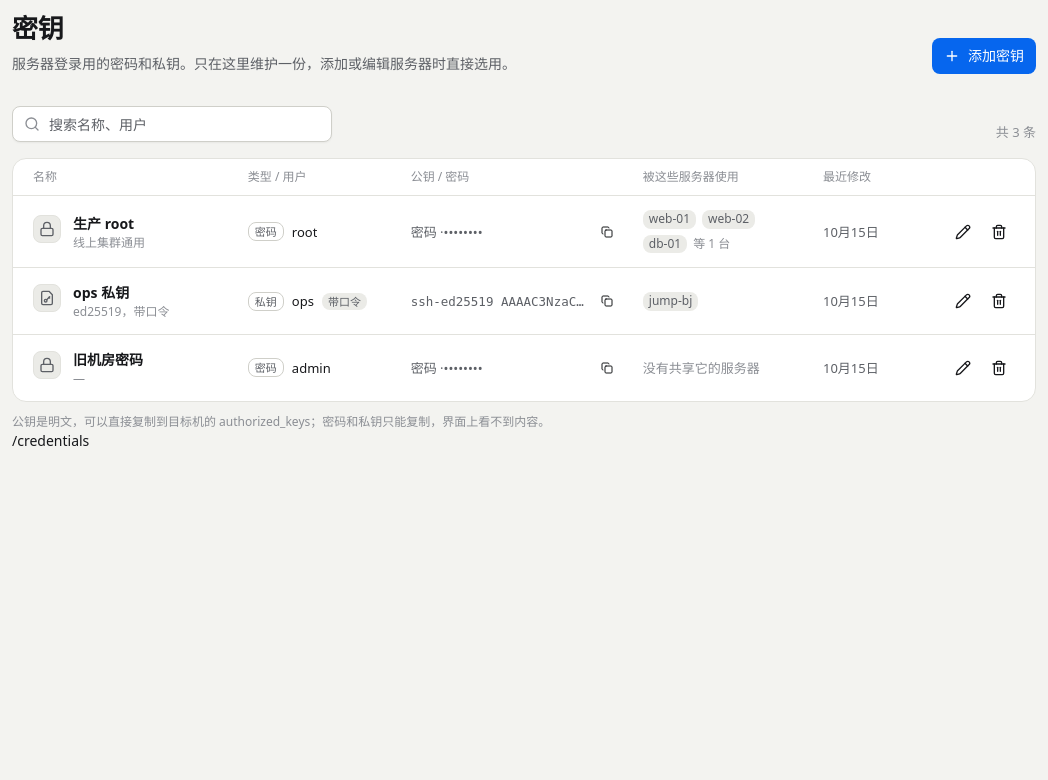
Scenario: 密钥列表 › reveal 失败时不静默，写明原因
The image size is (1048, 780).
Click the button named "复制 生产 root 的密码" at (607, 232), box [595,220,619,244]
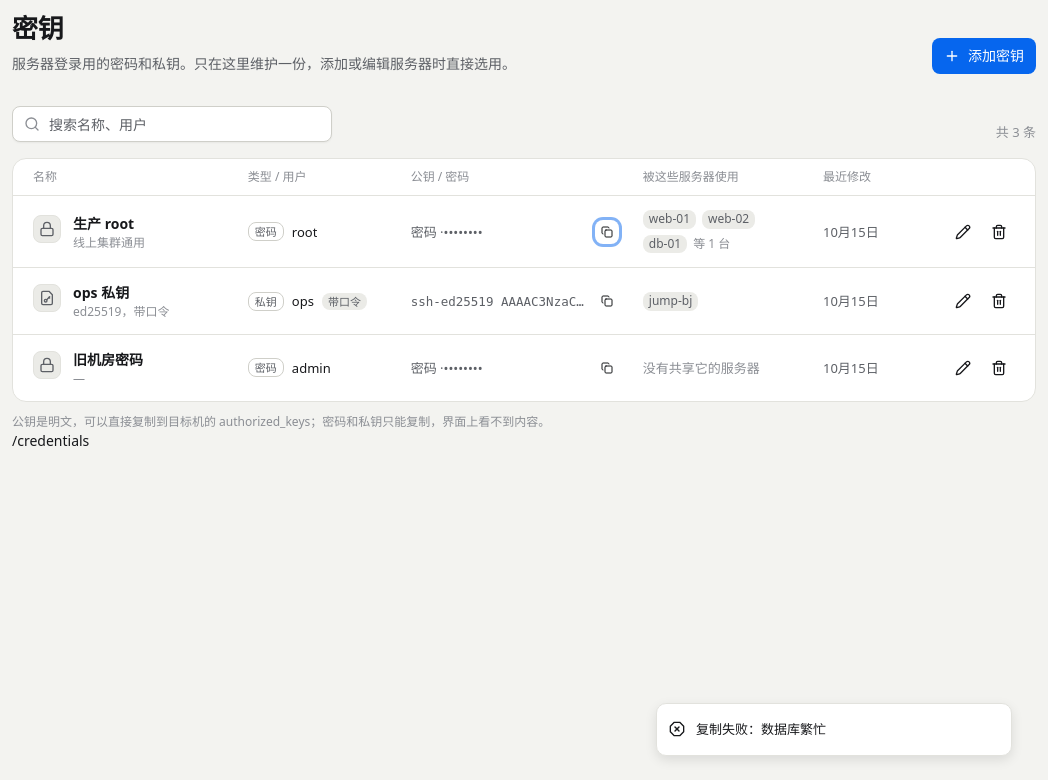
Check: the text "复制失败：数据库繁忙" is shown, box [696,720,826,739]
